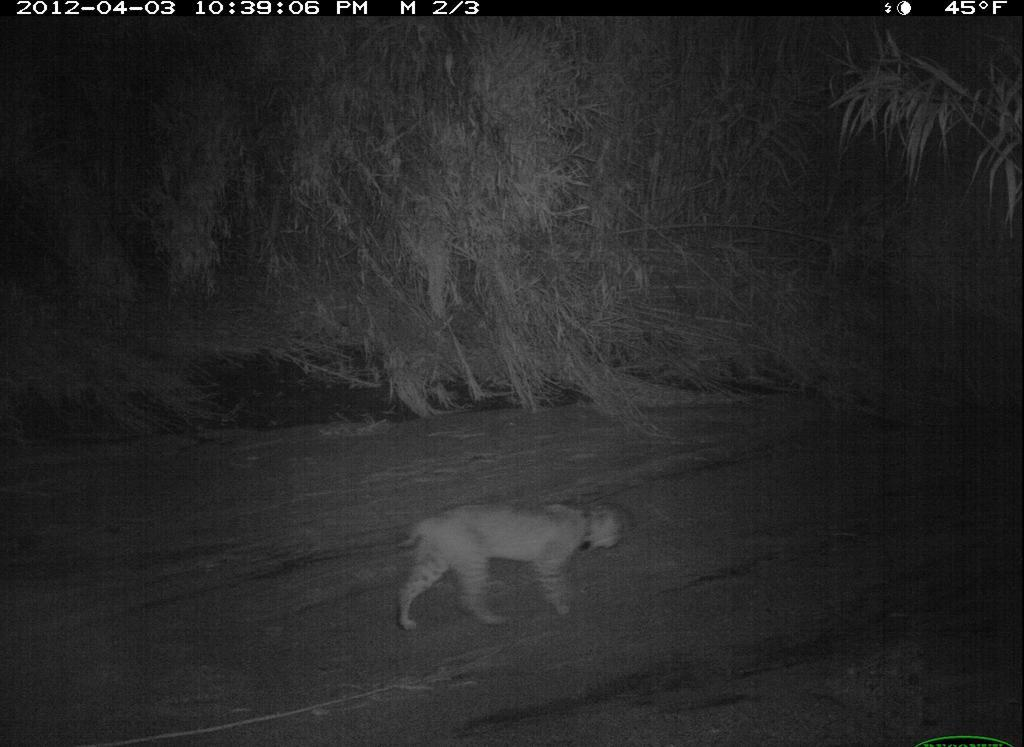bobcat: (381, 487, 642, 646)
